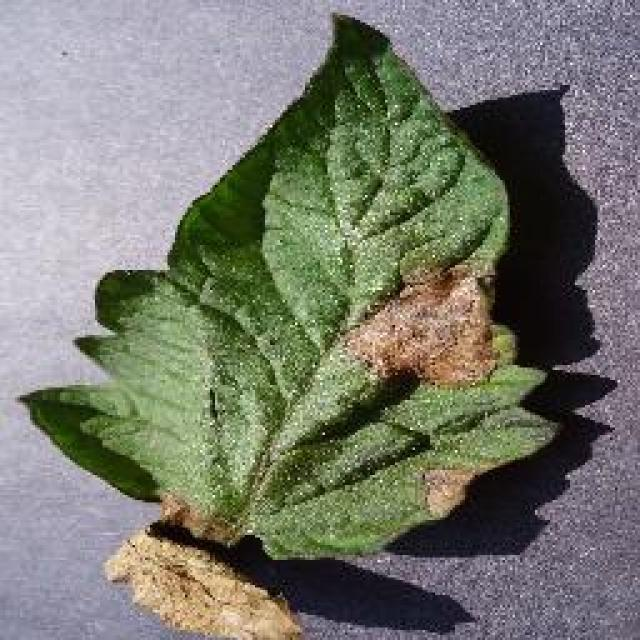Tomato late blight leaf: (13, 11, 554, 640)
